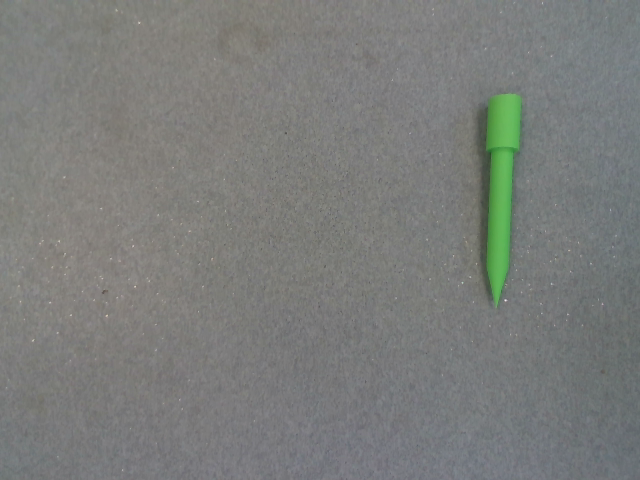Probe: (479, 89, 530, 320)
